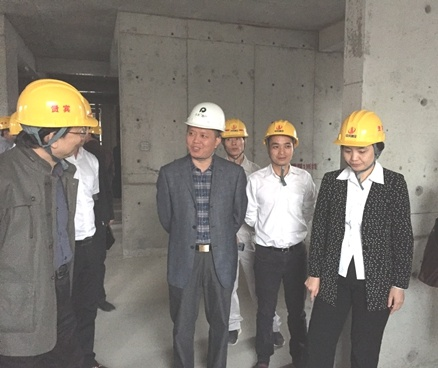white: (180, 98, 224, 160)
yellow: (14, 78, 85, 160), (339, 110, 385, 169), (263, 118, 298, 167), (218, 118, 250, 159), (1, 113, 11, 139)
